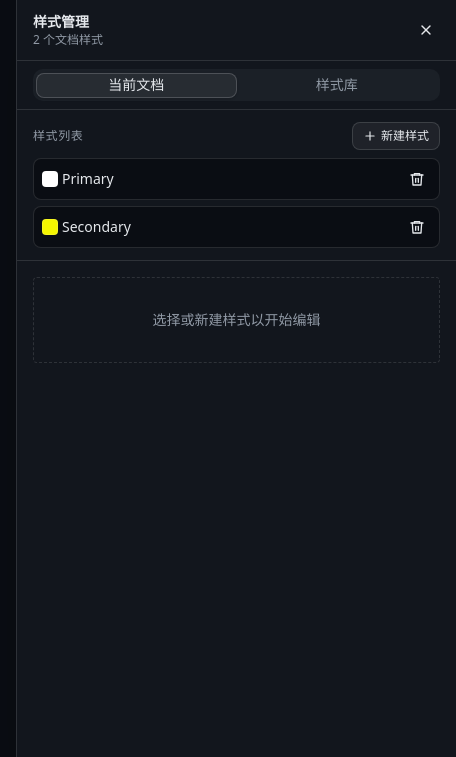
it: StyleManager library integration › keeps UI values and shows alert after library save failure
Click the tab "样式库": point(337, 85) [236,72,437,98]
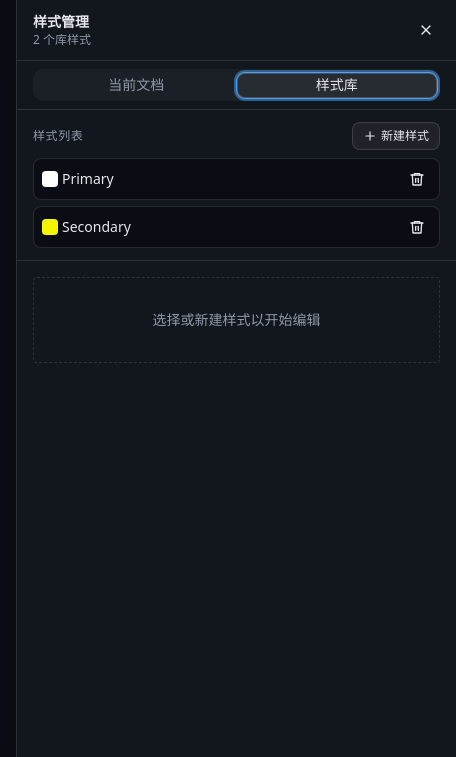
Click the button "Primary": point(88, 178) [33,158,440,200]
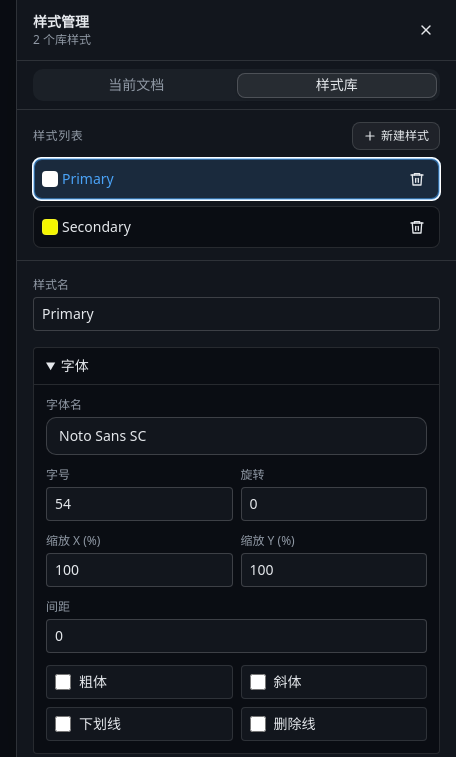
Replace the text in the number field showing "54" with "88": point(139, 504) [46,487,232,521]
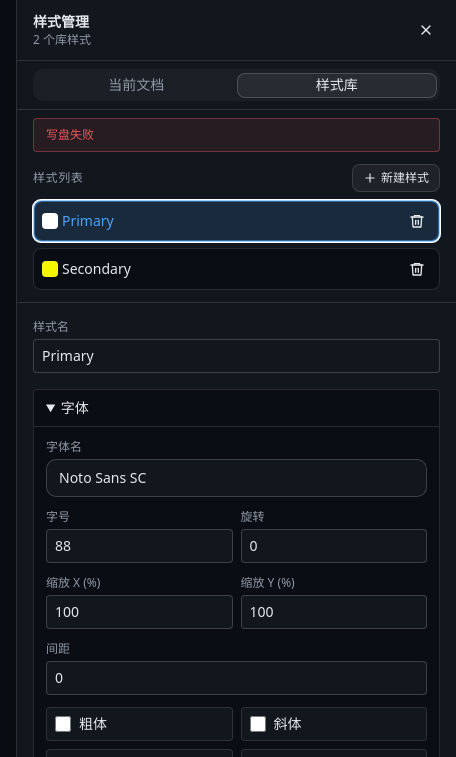
Result: the message reads "写盘失败" at [46,126,94,143]
Replace the text in the number field showing "88" with "89": point(139, 546) [46,529,232,563]
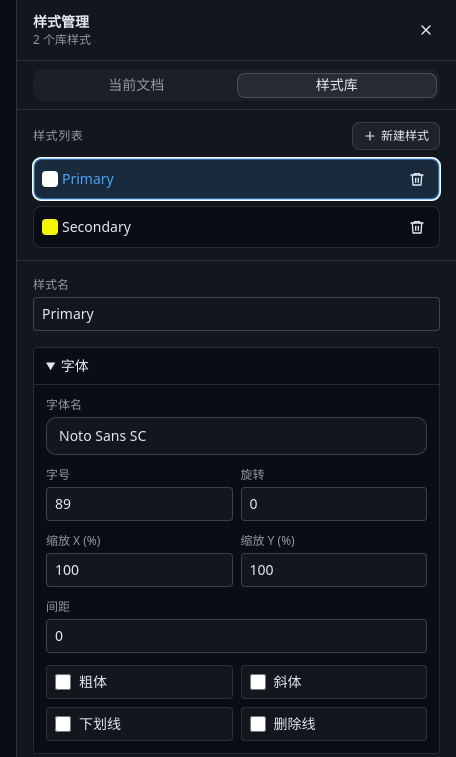
Result: the message "写盘失败" is gone
